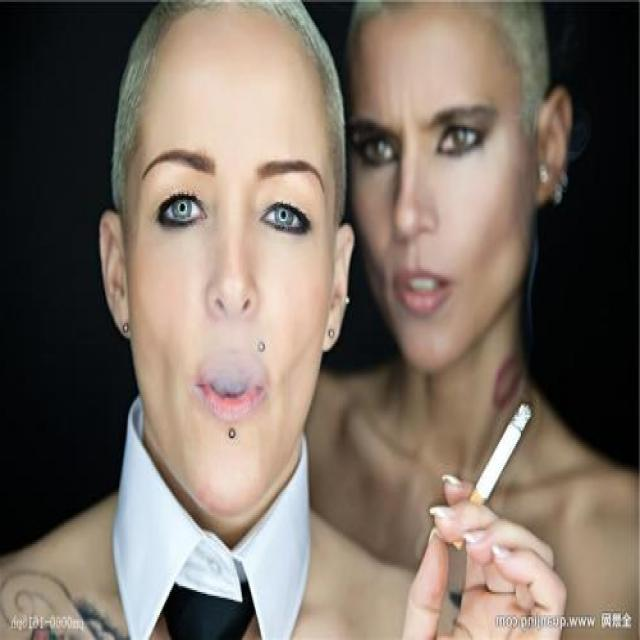smoking: (447, 400, 533, 550)
